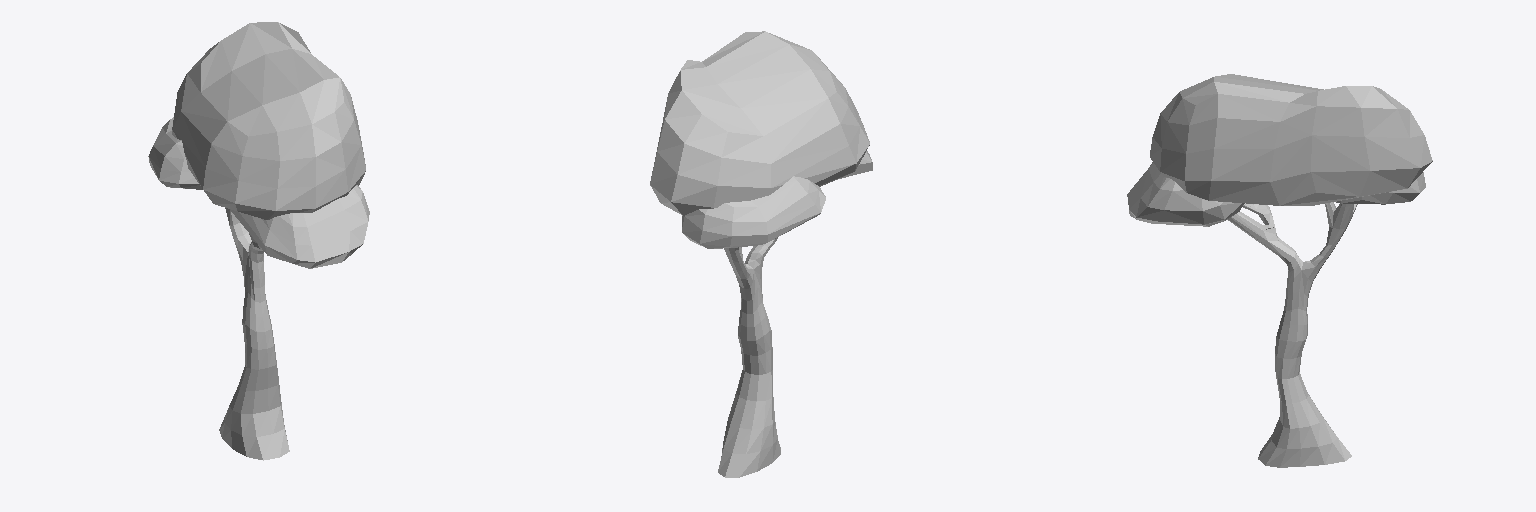
File: Arbol_1 (1).obj
3 views of the same model, side by side, from view 1: azimuth 30°, elevation 25°; view 2: azimuth 150°, elevation 25°; view 3: azimuth 270°, elevation 25° (orthographic).
Size of the model in its own units: 2.91 by 7.3 by 5.14.